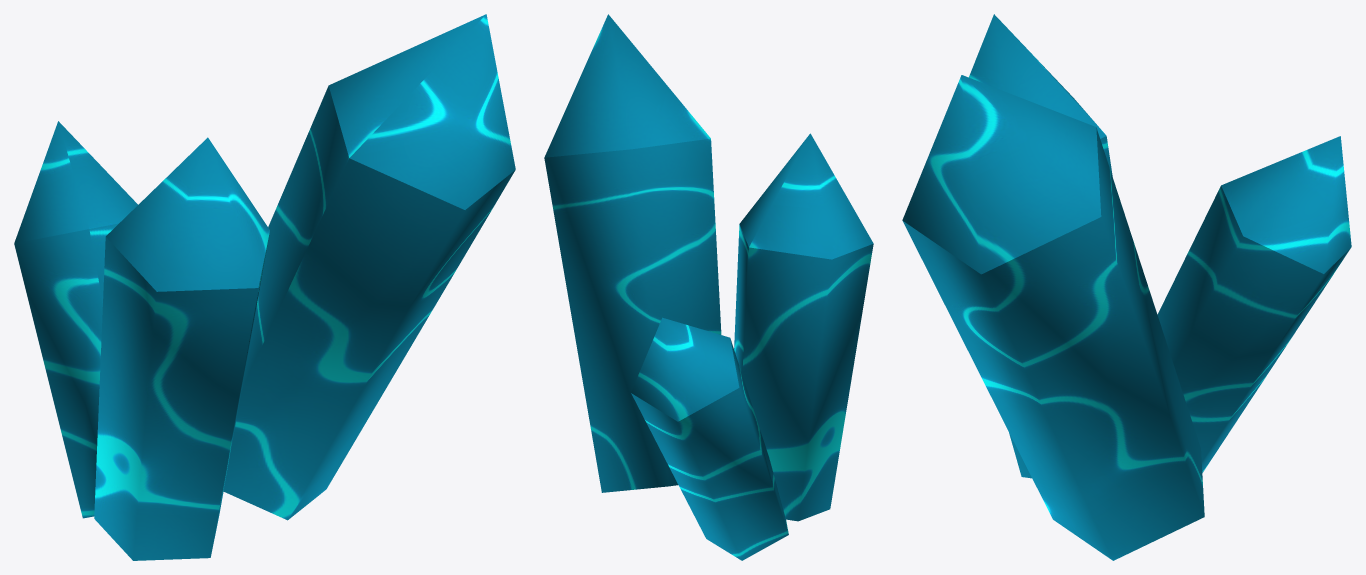
File: DropedMine.fbx
3 renders of one model, left to right at view 1: azimuth 30°, elevation 25°; view 2: azimuth 150°, elevation 25°; view 3: azimuth 270°, elevation 25°, orthographic. The views are drawn at different scales.
Parts seen in each view (by area): view 1: Sphere001.001; view 2: Sphere001.001; view 3: Sphere001.001.
Boxes of the visible parts, x1,y1,x2,y2 form: Sphere001.001: (14, 14, 515, 560); Sphere001.001: (544, 14, 873, 560); Sphere001.001: (902, 14, 1351, 560).
Bounding box in the file's own units: 13.19 × 13.39 × 17.85.
Materials: 1 (1 with a texture image).
